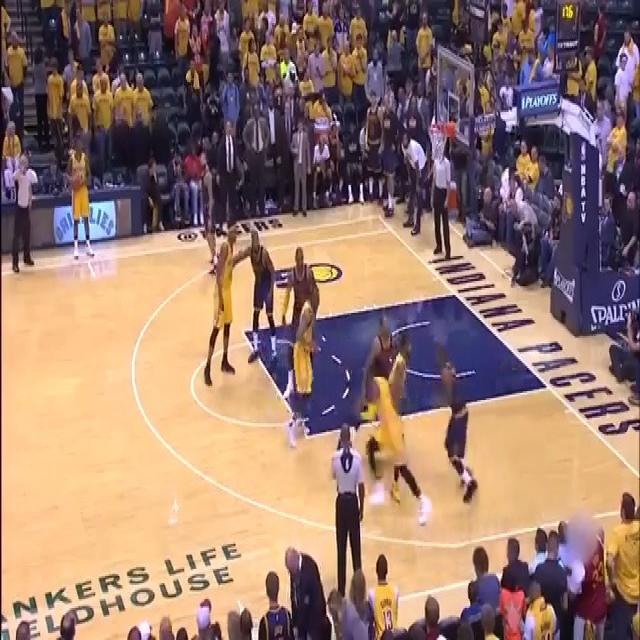hoop: (426, 116, 454, 167)
